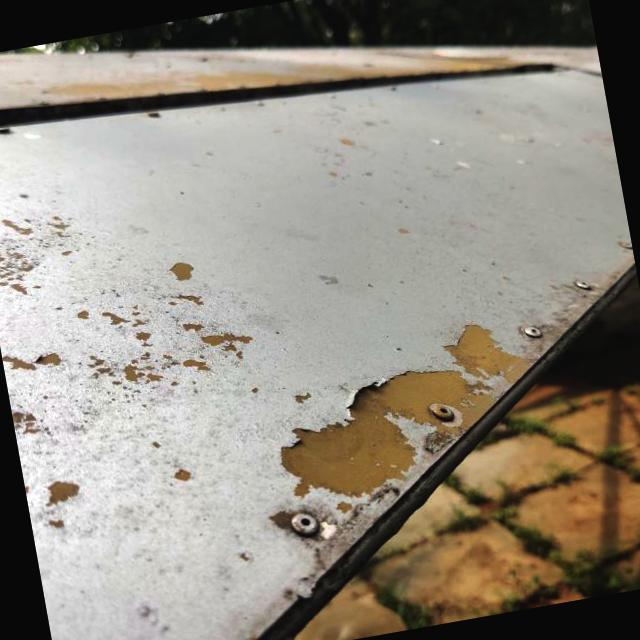paint-off: (238, 294, 574, 538)
